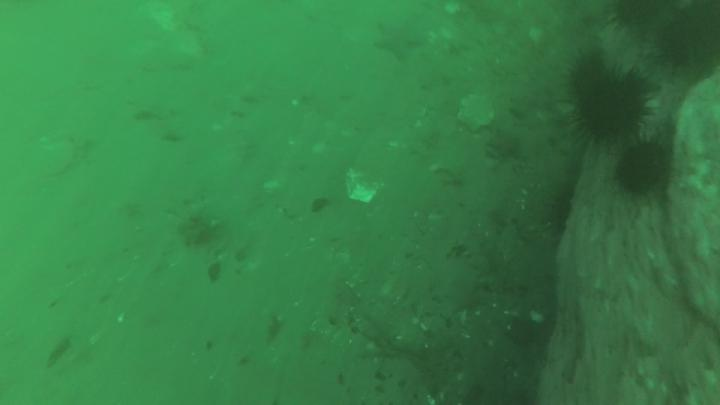echinus: (581, 72, 647, 147), (654, 2, 719, 68), (616, 142, 662, 197), (613, 2, 664, 27), (571, 54, 602, 90)
starfish: (376, 16, 423, 57), (490, 130, 528, 161)
